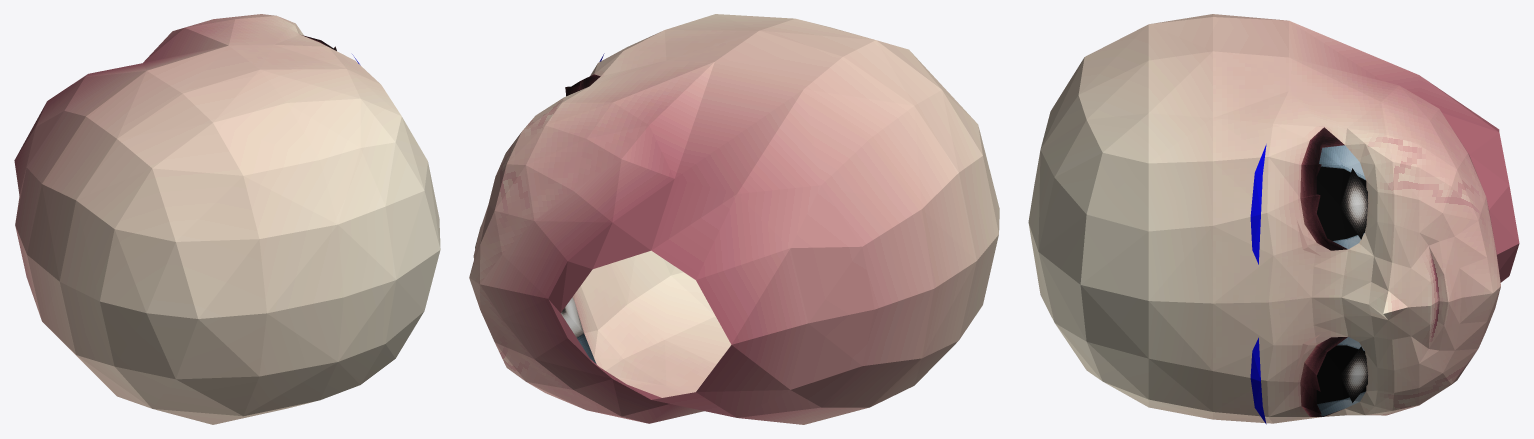
Rendered from Npc_60109.obj.
3 views of the same model, side by side, from view 1: azimuth 30°, elevation 25°; view 2: azimuth 150°, elevation 25°; view 3: azimuth 270°, elevation 25° (orthographic). The views are drawn at different scales.
Visible parts, largest first — view 1: Npc_60109; view 2: Npc_60109; view 3: Npc_60109.
Part boxes in pixels (left/top/right/bottom): Npc_60109: left=14, top=14, right=440, bottom=424; Npc_60109: left=469, top=14, right=999, bottom=424; Npc_60109: left=1028, top=14, right=1519, bottom=424.
Bounding box in the file's own units: 0.411 × 0.342 × 0.441.
Materials: 3 (2 with a texture image).
